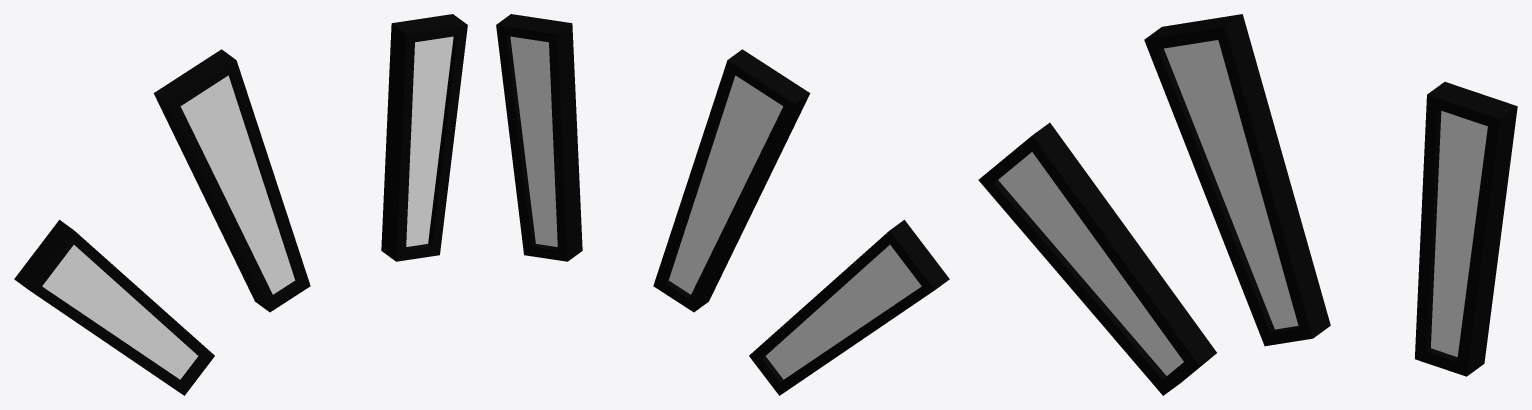
Rendered from Notice_001.FBX.
3 renders of one model, left to right at view 1: azimuth 30°, elevation 25°; view 2: azimuth 150°, elevation 25°; view 3: azimuth 330°, elevation 25°, orthographic. The views are drawn at different scales.
Parts seen in each view (by area): view 1: Notice_001; view 2: Notice_001; view 3: Notice_001.
Boxes of the visible parts, <box> form: Notice_001: <box>14,14,467,395</box>; Notice_001: <box>496,14,949,395</box>; Notice_001: <box>978,14,1517,395</box>.
Size of the model in its own units: 67.78 by 4 by 47.68.
